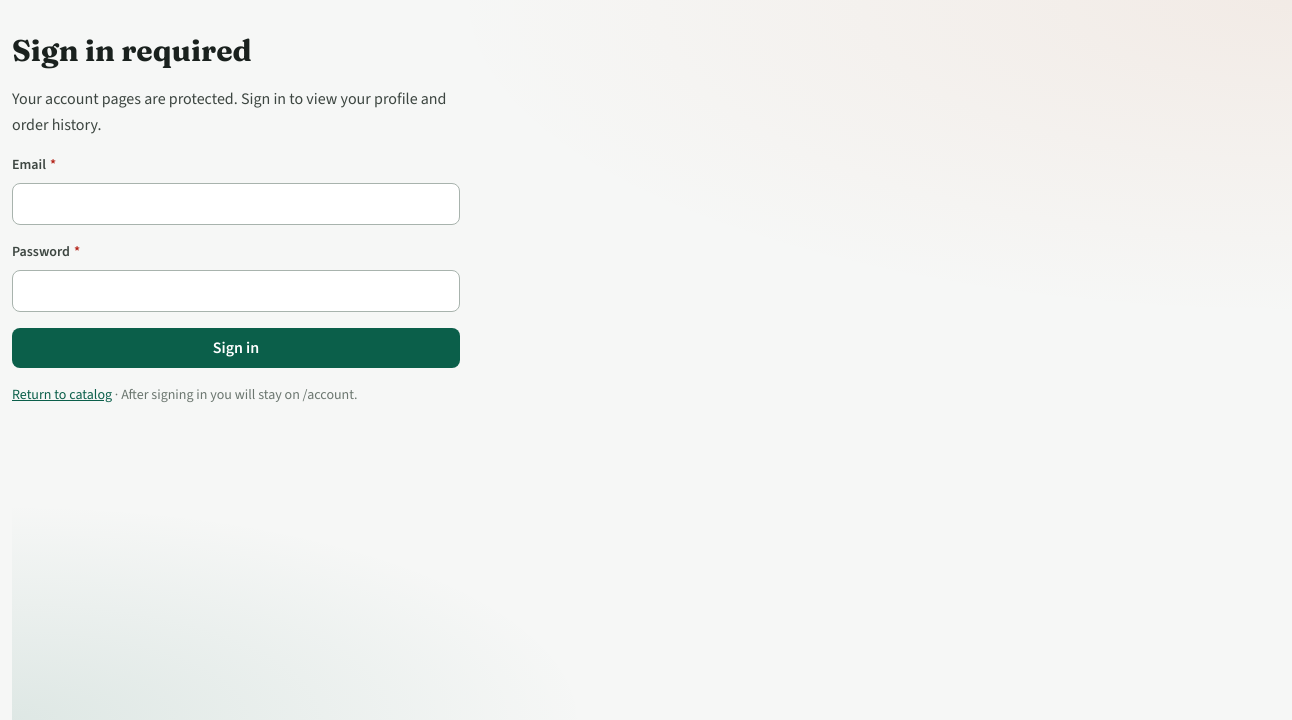
PrivateRoute › surfaces API errors on failed sign-in
This screenshot has width=1292, height=720.
In the field labelled "Email*": (236, 204) [12,183,460,225], type "ada@example.com"
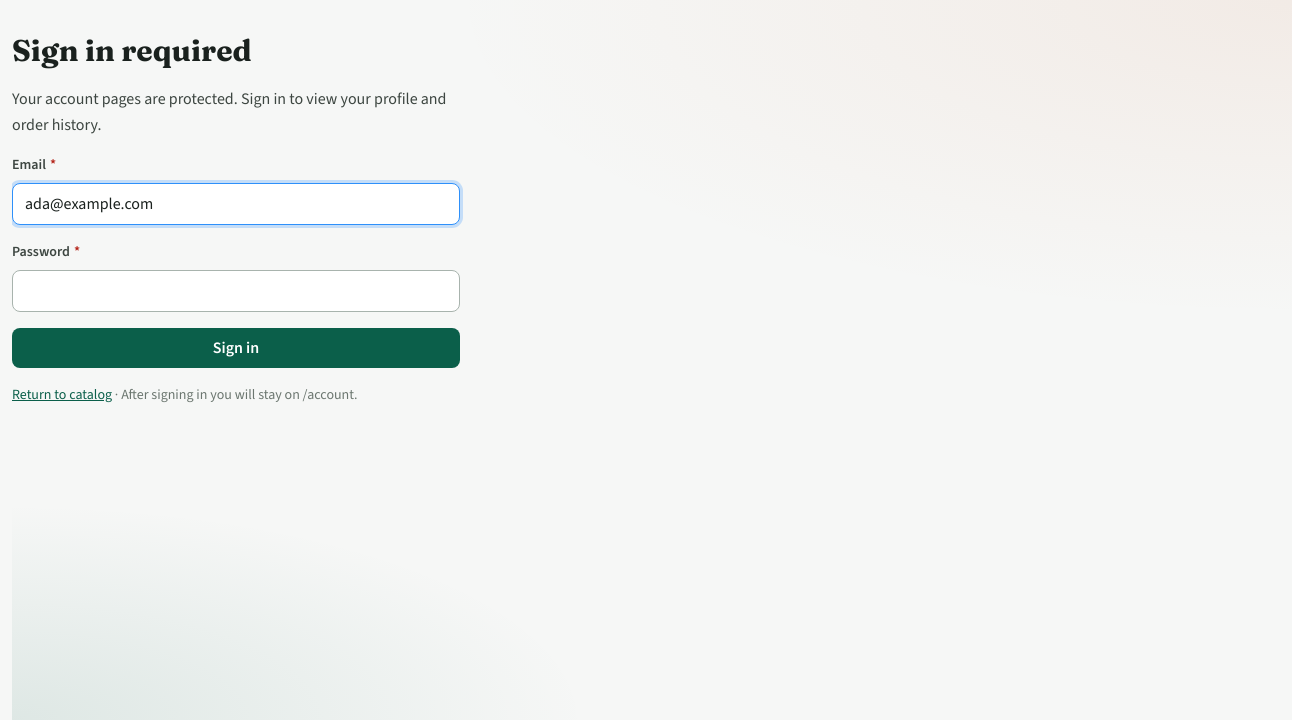
In the password field labelled "Password*": (236, 291) [12,270,460,312], type "wrong"
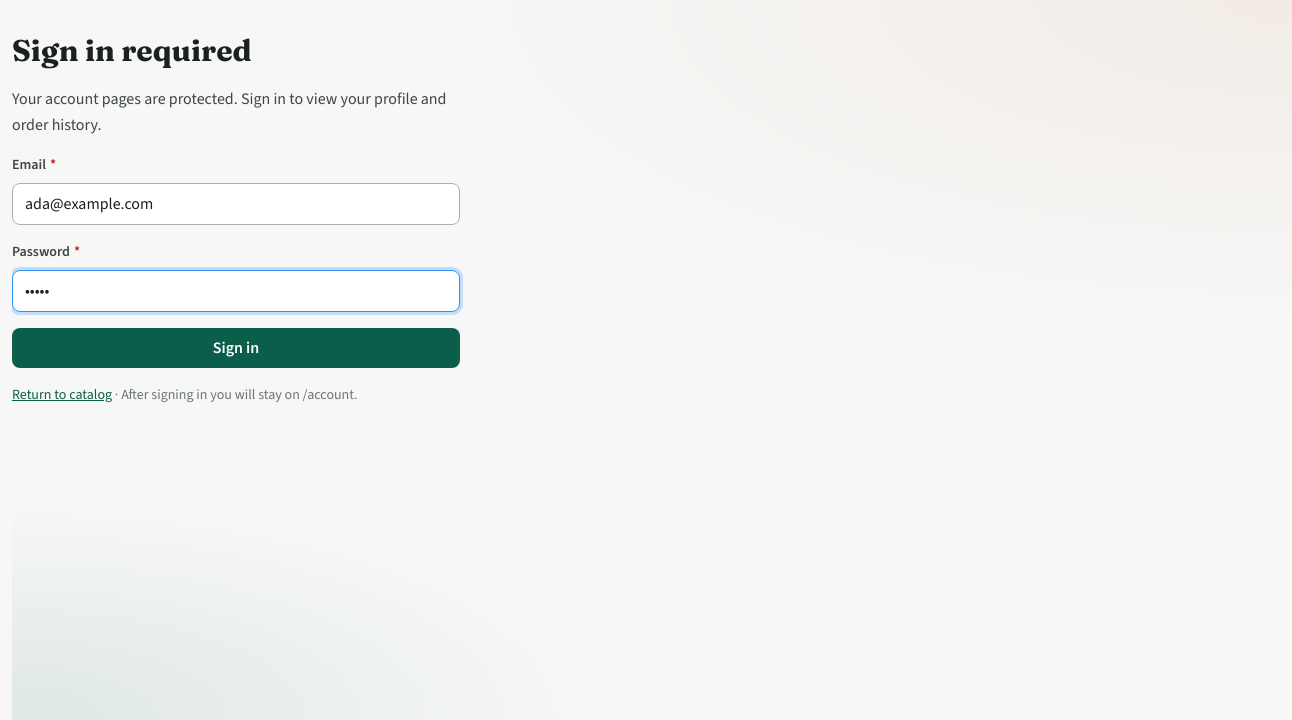
Click the button "Sign in": click(236, 348) [12,328,460,368]
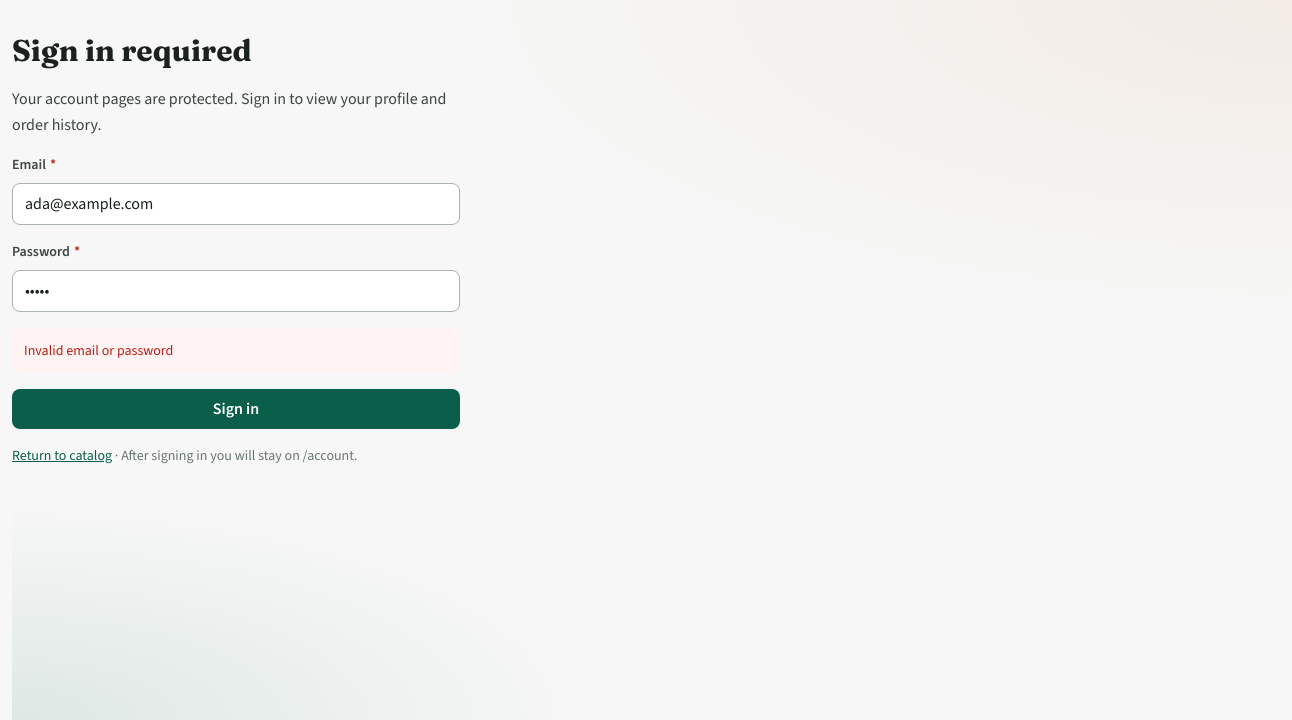
Expected: the message reads "Invalid email or password", [24,341,173,360]
